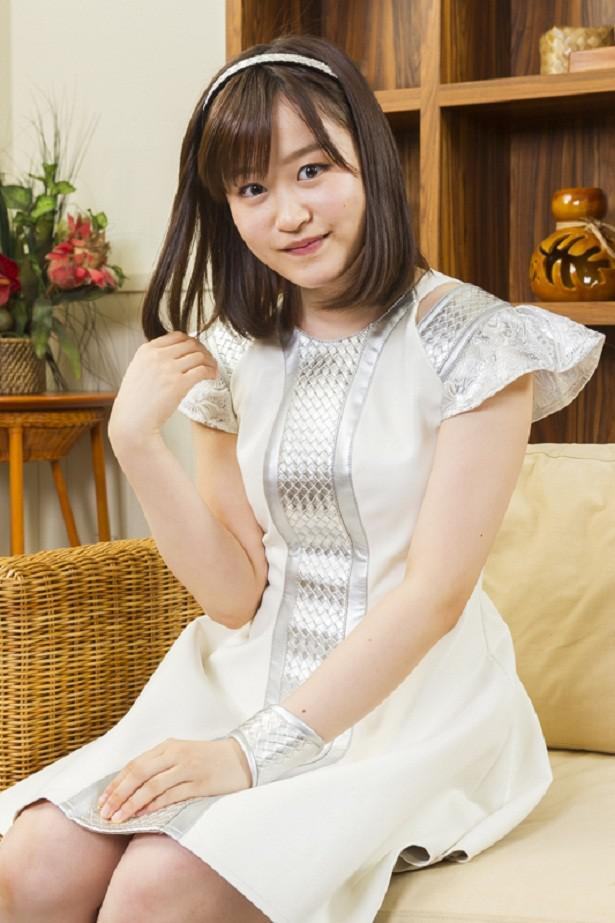face: (225, 85, 368, 287)
hand: (94, 728, 254, 824), (108, 333, 219, 441)
